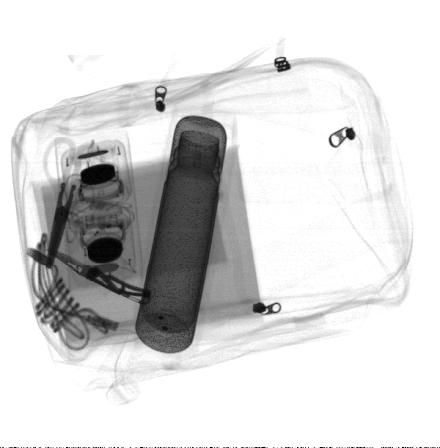Knife: (45, 249, 153, 305)
Scissors: (43, 138, 104, 270)
